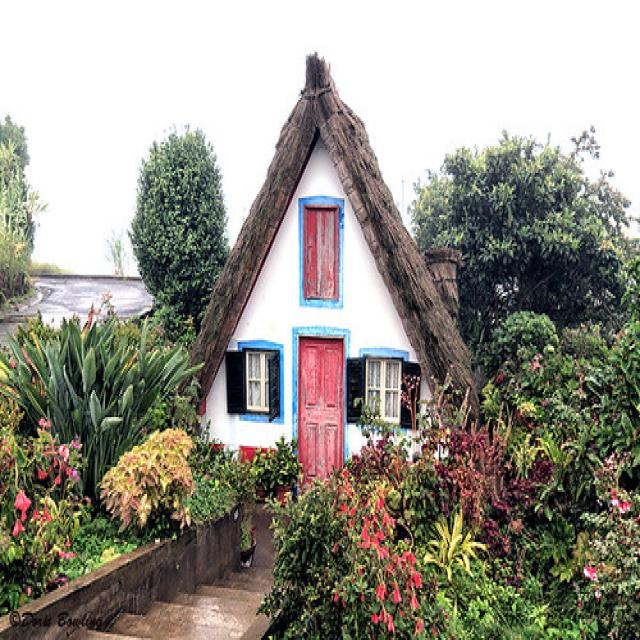Normal_building: (169, 42, 489, 560)
